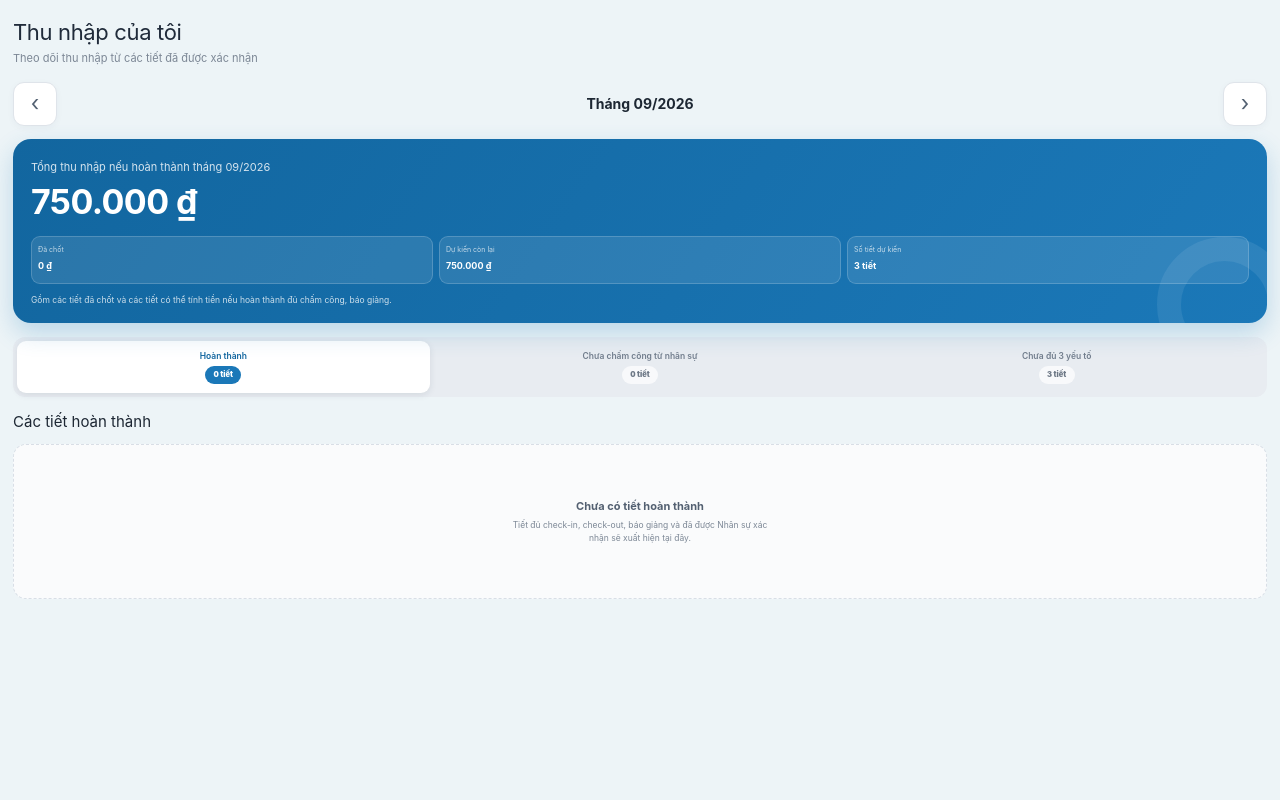
Scenario: TeacherIncomeScreen › hiển thị thu nhập dự kiến cho tiết tương lai nếu hoàn thành
Expected: the text "Tổng thu nhập nếu hoàn thành tháng 09/2026" is shown, [31,160,270,174]
Expected: the 1st text "750.000 ₫" is shown, [31,181,197,222]
Click the tab "Chưa đủ 3 yếu tố 3 tiết" at {"x": 1057, "y": 367}, box [850,341,1263,393]
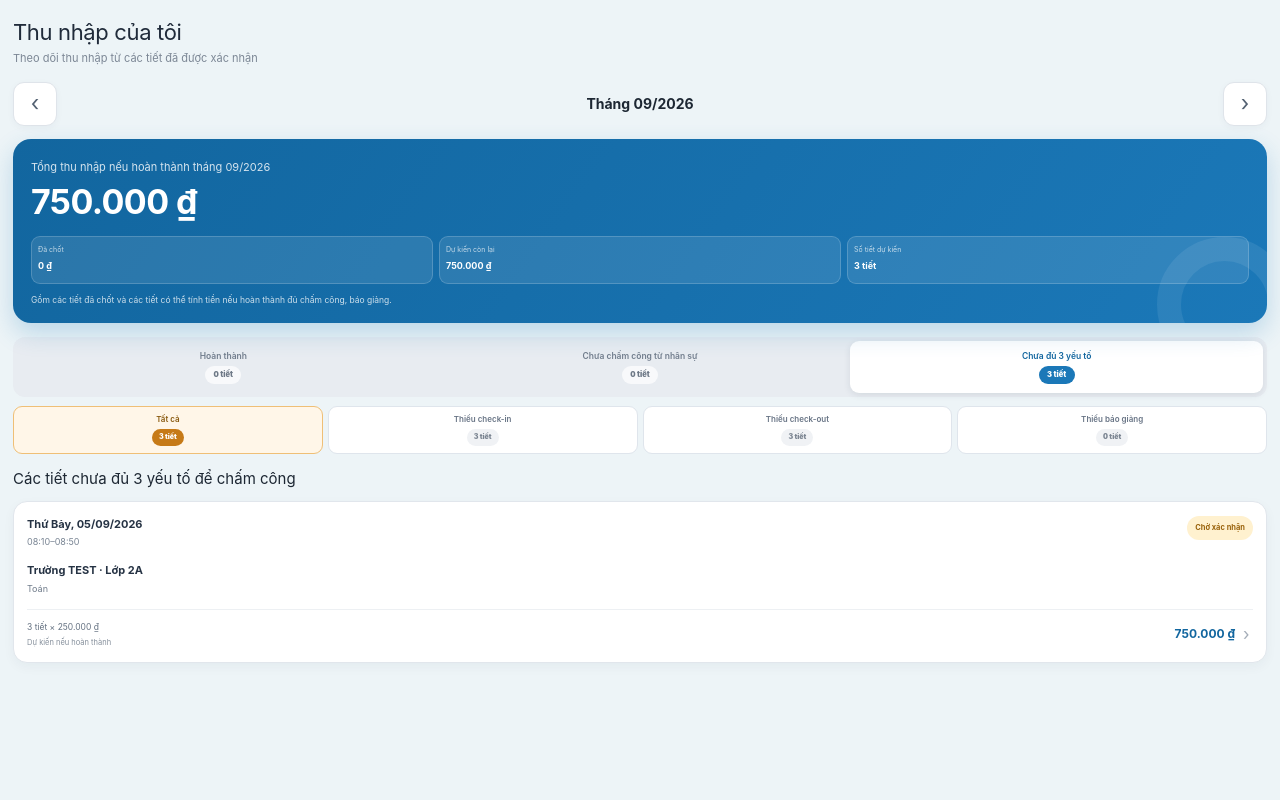
Result: the text "Dự kiến nếu hoàn thành" is shown at [27,638,111,647]
Click the button with aria-label "Xem chi tiết thu nhập ngày 05/09/2026" at {"x": 640, "y": 582}, box [13,501,1267,663]
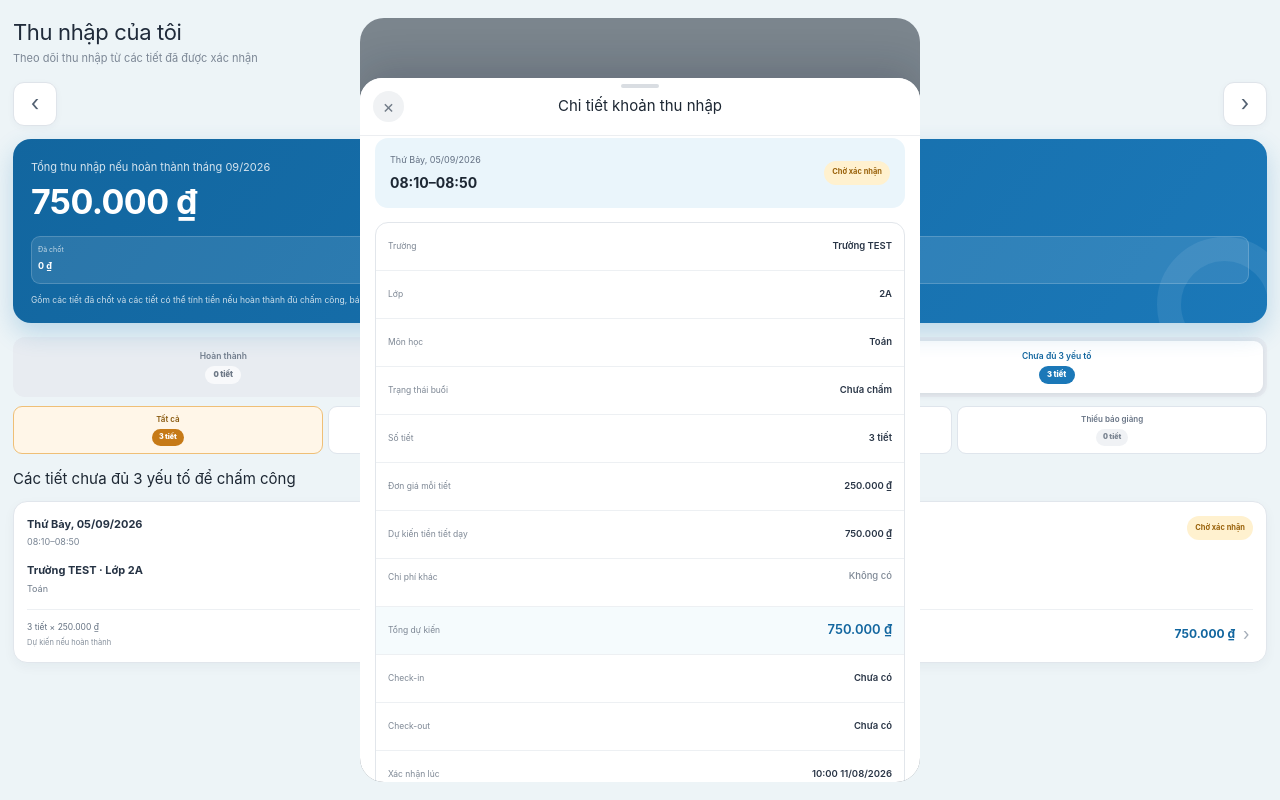
Result: the text "Dự kiến tiền tiết dạy" is shown at [388,529,468,539]
Result: the text "Tổng dự kiến" is shown at [388,625,440,635]
